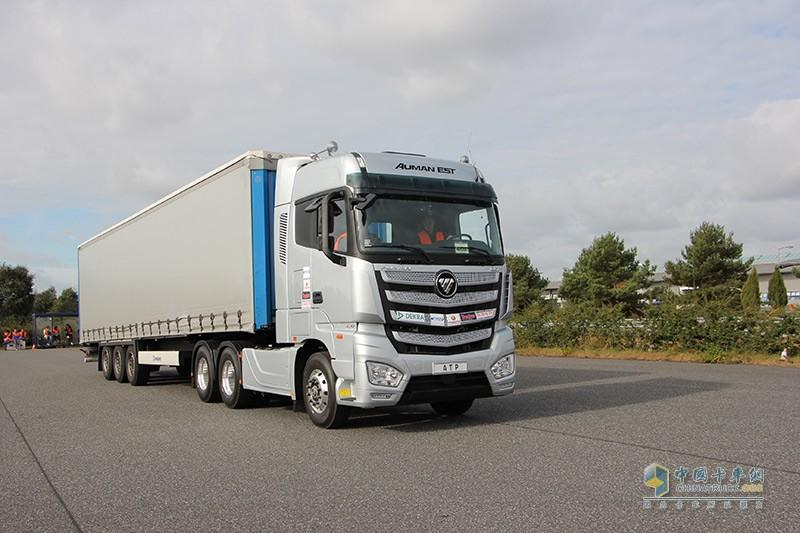truck: (56, 130, 517, 430)
